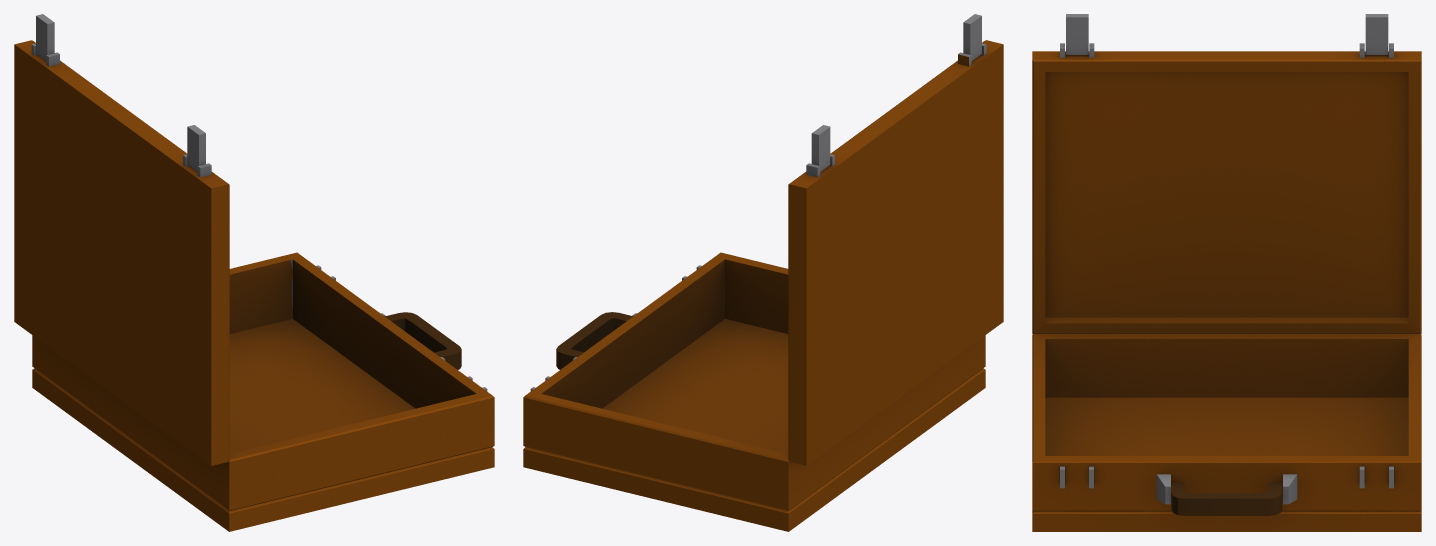
File: briefCaseBody.FBX
The picture shows the model from 3 angles, left to right: view 1: azimuth 30°, elevation 25°; view 2: azimuth 150°, elevation 25°; view 3: azimuth 270°, elevation 25°; orthographic projection.
Visible parts, largest first — view 1: briefcaseBody, briefcaseLit, briefcaseClipLeft, briefcaseClipRight; view 2: briefcaseBody, briefcaseLit, briefcaseClipRight, briefcaseClipLeft; view 3: briefcaseLit, briefcaseBody, briefcaseClipRight, briefcaseClipLeft.
Part boxes in pixels (x1,y1,x2,y2): briefcaseBody: [32, 252, 494, 531]; briefcaseLit: [14, 40, 229, 465]; briefcaseClipLeft: [187, 125, 205, 171]; briefcaseClipRight: [36, 14, 54, 60]; briefcaseBody: [523, 252, 985, 531]; briefcaseLit: [788, 40, 1003, 465]; briefcaseClipRight: [811, 125, 830, 171]; briefcaseClipLeft: [963, 14, 981, 60]; briefcaseLit: [1032, 43, 1421, 333]; briefcaseBody: [1032, 334, 1421, 531]; briefcaseClipRight: [1365, 14, 1388, 54]; briefcaseClipLeft: [1066, 14, 1088, 54].
Bounding box in the file's own units: 16.91 × 19.25 × 17.72.
1 material, 1 textured.
